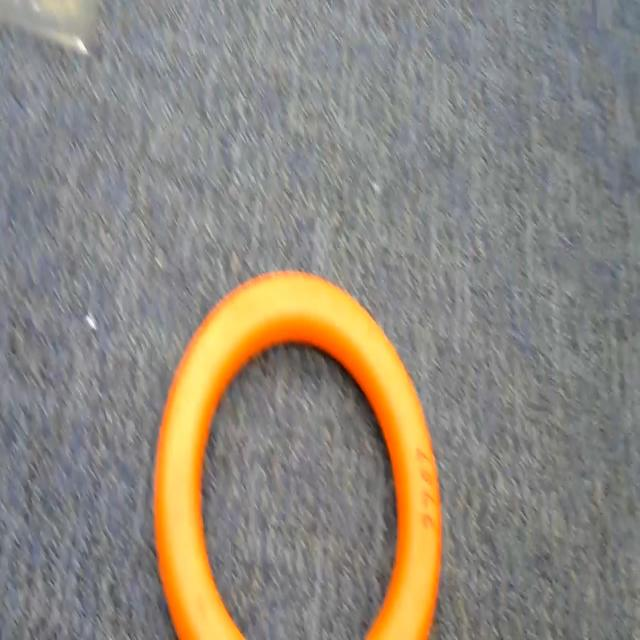note: (154, 248, 453, 640)
